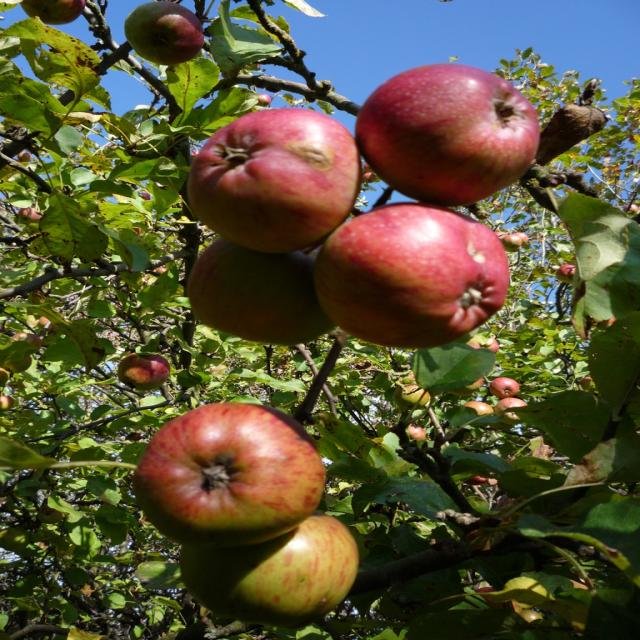Healty Apple: (131, 406, 326, 545), (355, 63, 540, 207), (319, 200, 500, 346), (189, 107, 361, 255), (180, 510, 362, 625), (121, 2, 208, 66), (117, 354, 169, 391), (20, 0, 88, 26), (494, 398, 528, 422), (446, 378, 484, 397), (393, 388, 429, 408), (488, 376, 520, 398), (8, 334, 41, 354), (5, 355, 32, 375), (476, 584, 495, 610), (459, 401, 495, 414), (18, 206, 43, 222), (556, 264, 578, 282), (463, 472, 493, 484), (499, 236, 521, 252), (517, 610, 541, 624), (37, 316, 54, 331), (405, 426, 425, 438), (358, 170, 377, 182), (578, 376, 594, 390), (0, 396, 12, 412), (0, 368, 10, 387), (256, 94, 270, 104), (515, 232, 529, 242), (622, 205, 638, 212), (17, 154, 28, 162), (364, 164, 372, 170)
